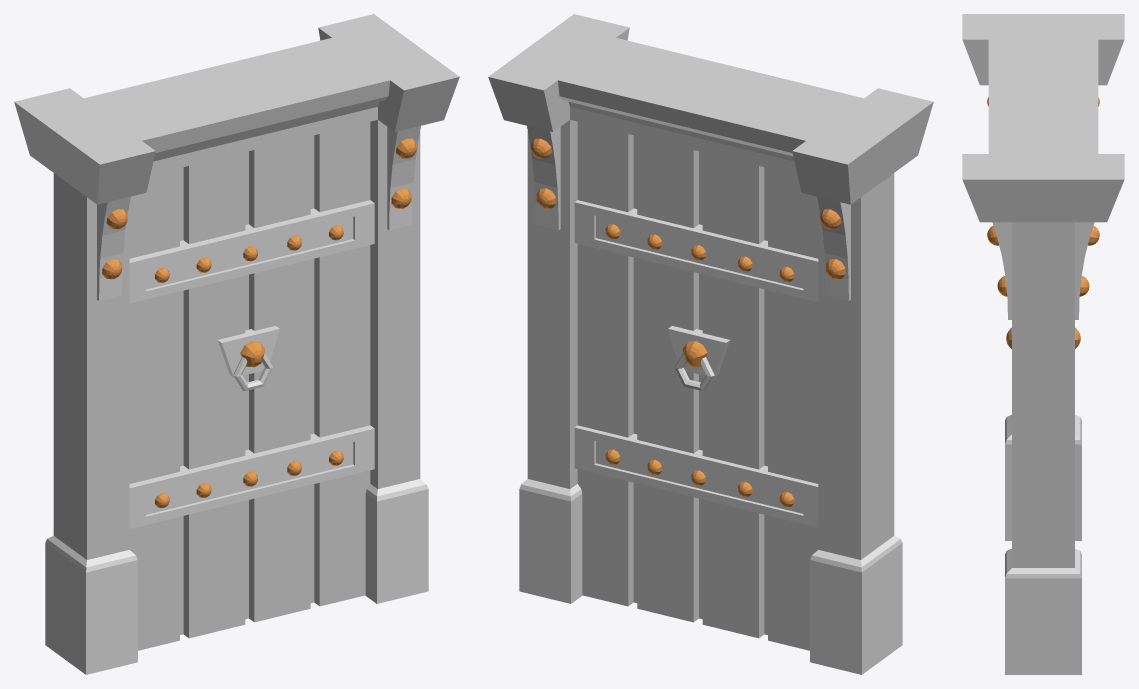
File: SqaureDoor.fbx
3 renders of one model, left to right at view 1: azimuth 30°, elevation 25°; view 2: azimuth 150°, elevation 25°; view 3: azimuth 270°, elevation 25°, orthographic. The views are drawn at different scales.
Parts seen in each view (by area): view 1: Cube.117, Cube.112; view 2: Cube.117, Cube.112; view 3: Cube.112.
Part boxes in pixels (x1=…): Cube.117: x1=129, y1=122, x2=374, y2=650; Cube.112: x1=14, y1=14, x2=459, y2=674; Cube.117: x1=574, y1=122, x2=818, y2=650; Cube.112: x1=488, y1=14, x2=933, y2=674; Cube.112: x1=962, y1=14, x2=1124, y2=674.
Size of the model in its own units: 292 by 409 by 121.
